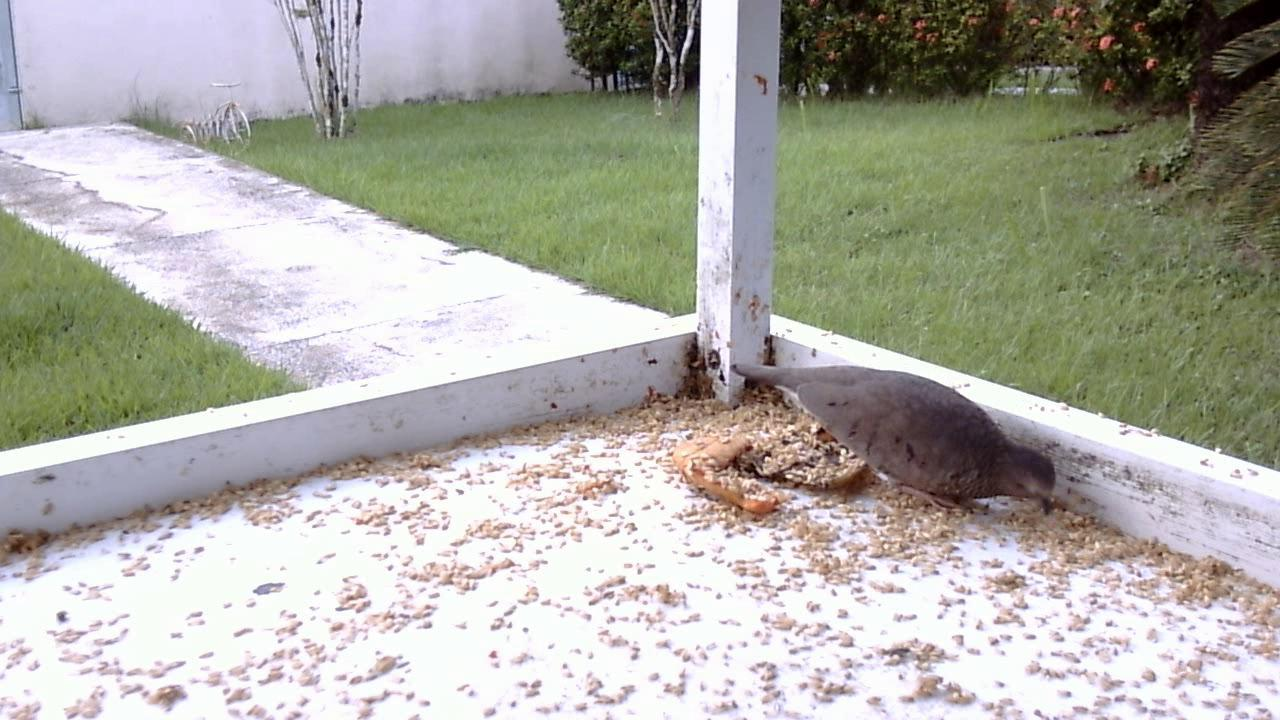rolinha: (737, 354, 1060, 519)
